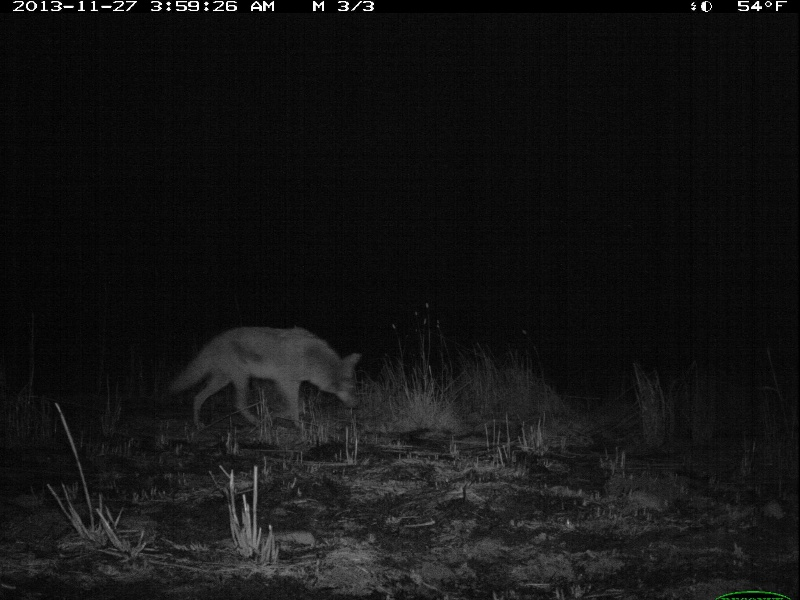coyote: (167, 321, 362, 434)
